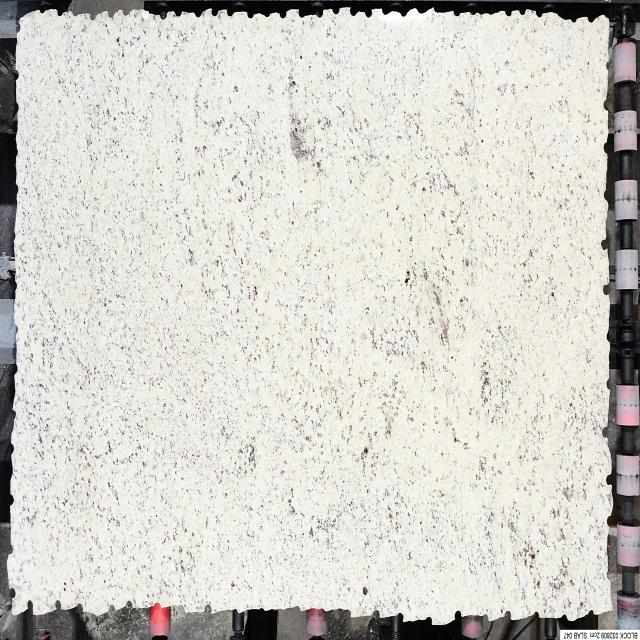chapa: (8, 7, 614, 625)
veio: (52, 597, 66, 614), (202, 602, 215, 618), (26, 595, 36, 615), (156, 9, 169, 23), (601, 423, 611, 441), (452, 608, 463, 624), (86, 10, 100, 22), (604, 472, 614, 487), (210, 7, 222, 19), (277, 8, 289, 20), (602, 284, 612, 298), (8, 589, 18, 602), (364, 8, 374, 20), (600, 238, 610, 250), (396, 612, 404, 624)
